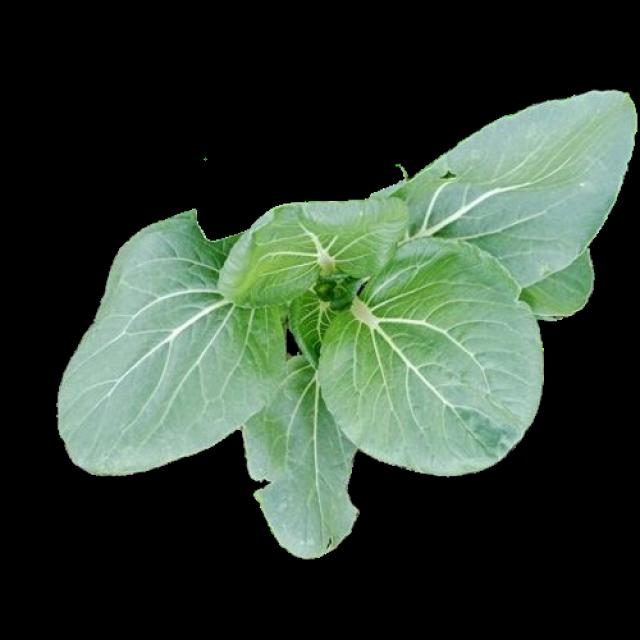mature: (60, 90, 639, 560)
unhealthy: (397, 91, 636, 278), (242, 362, 360, 557)
